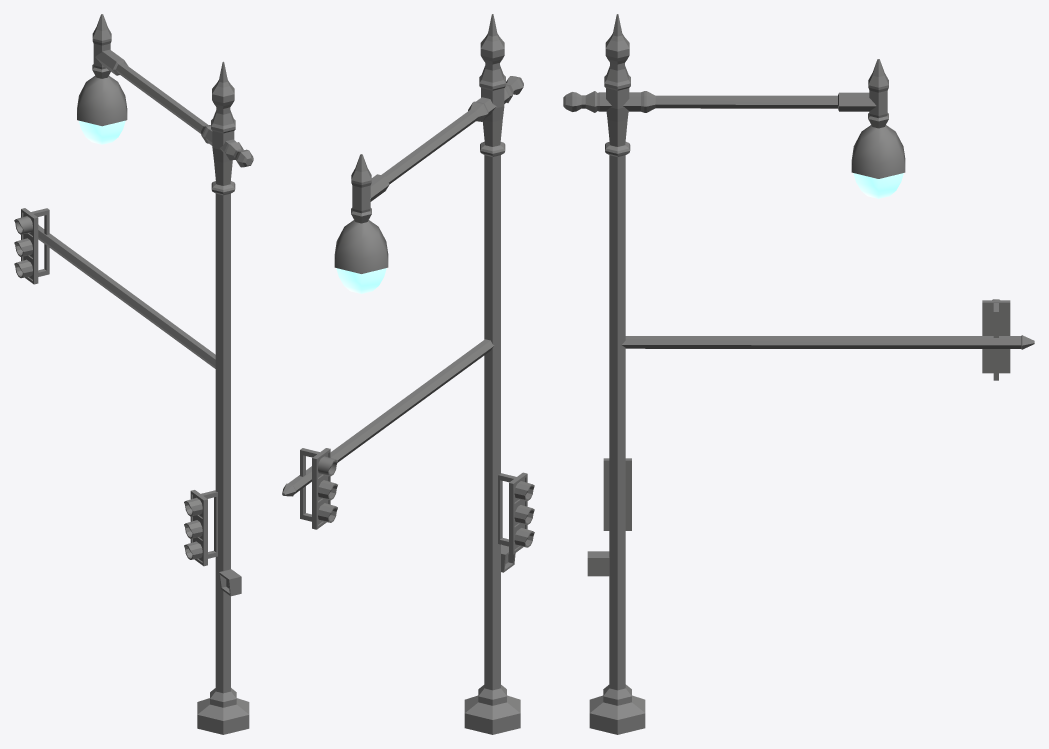
The model's file is Traffic Light_A_01.fbx.
3 renders of one model, left to right at view 1: azimuth 30°, elevation 25°; view 2: azimuth 150°, elevation 25°; view 3: azimuth 270°, elevation 25°, orthographic. The views are drawn at different scales.
Parts seen in each view (by area): view 1: Traffic_Light_A_01__173_; view 2: Traffic_Light_A_01__173_; view 3: Traffic_Light_A_01__173_.
Part boxes in pixels (<box>): Traffic_Light_A_01__173_: <box>14,14,253,734</box>; Traffic_Light_A_01__173_: <box>282,14,534,734</box>; Traffic_Light_A_01__173_: <box>563,14,1034,734</box>.
Bounding box in the file's own units: 104 × 1057 × 638.
